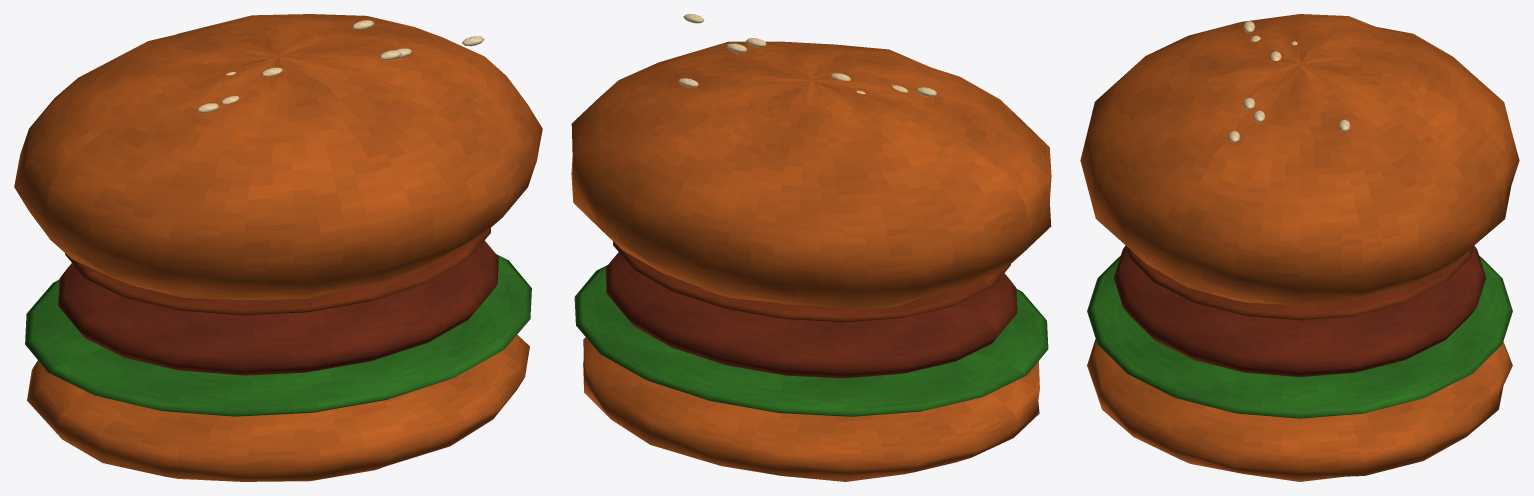
The model's file is bread_teriyaki_burger.glb.
3 renders of one model, left to right at view 1: azimuth 30°, elevation 25°; view 2: azimuth 150°, elevation 25°; view 3: azimuth 270°, elevation 25°, orthographic. The views are drawn at different scales.
Visible parts, largest first — view 1: ふっくらした上のバンズ.002, 下のバンズ.002, パティまたは具.002, シャキシャキレタス.002, 照り焼きソース; view 2: ふっくらした上のバンズ.002, 下のバンズ.002, パティまたは具.002, シャキシャキレタス.002, 照り焼きソース; view 3: ふっくらした上のバンズ.002, 下のバンズ.002, シャキシャキレタス.002, パティまたは具.002, 照り焼きソース.
Boxes of the visible parts, x1,y1,x2,y2 form: ふっくらした上のバンズ.002: (14,14,542,300); 下のバンズ.002: (27,335,529,481); パティまたは具.002: (58,240,498,375); シャキシャキレタス.002: (25,254,531,416); 照り焼きソース: (65,228,490,315); ふっくらした上のバンズ.002: (571,41,1051,308); 下のバンズ.002: (583,337,1039,481); パティまたは具.002: (605,252,1017,378); シャキシャキレタス.002: (574,265,1048,416); 照り焼きソース: (613,241,1010,322); ふっくらした上のバンズ.002: (1080,14,1519,306); 下のバンズ.002: (1087,339,1512,481); シャキシャキレタス.002: (1087,255,1512,418); パティまたは具.002: (1113,246,1486,376); 照り焼きソース: (1125,245,1474,320).
Size of the model in its own units: 0.7731 by 0.5883 by 0.66.
Materials: 5 (5 with a texture image).
